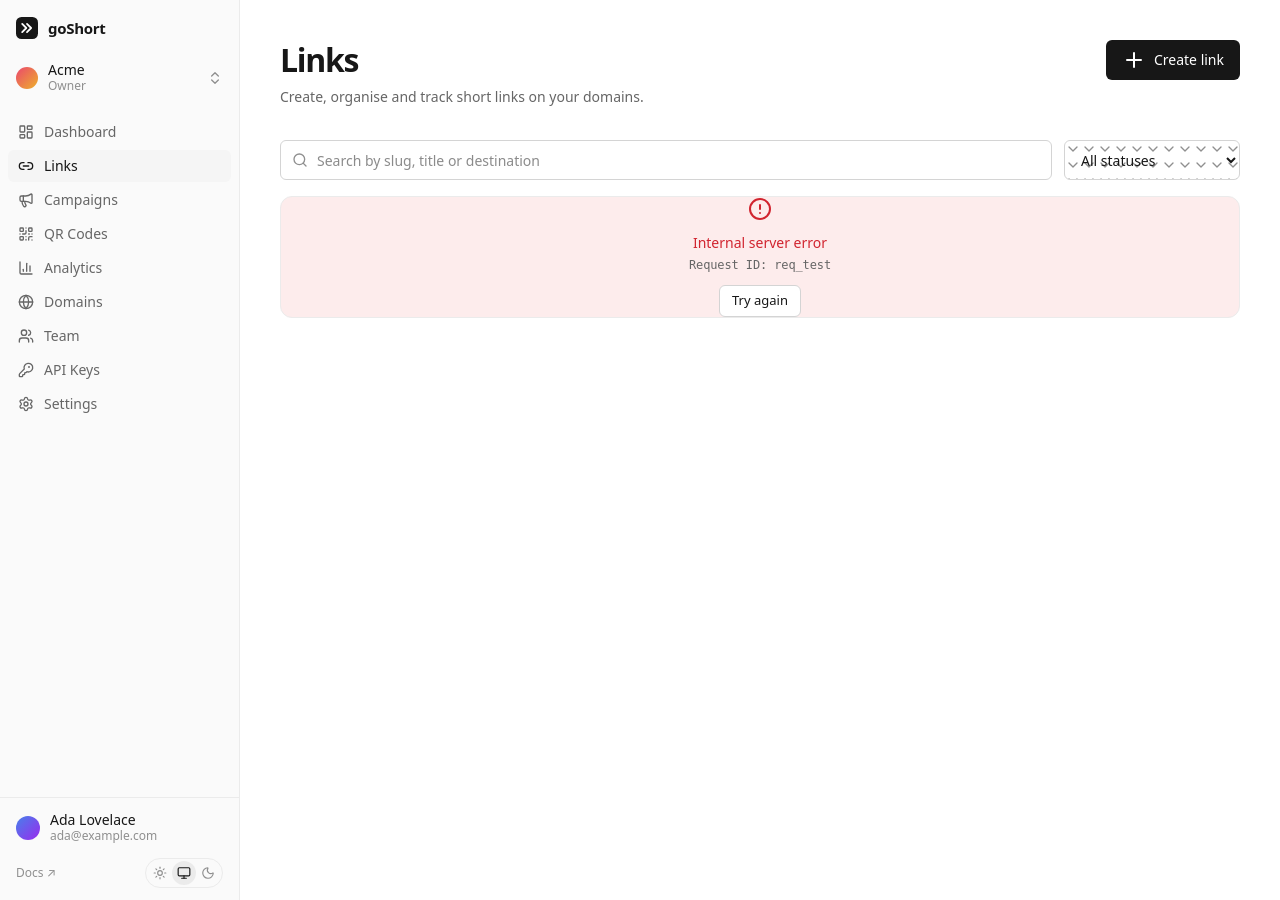
Test: links list › shows an error state with a working retry
Expected: the message shows "Internal server error", x1=693 y1=233 x2=827 y2=252
Expected: the text "Request ID: req_test" is shown, x1=689 y1=257 x2=831 y2=273
Click the button "Try again".
click(760, 301)  # box x1=719 y1=285 x2=801 y2=317
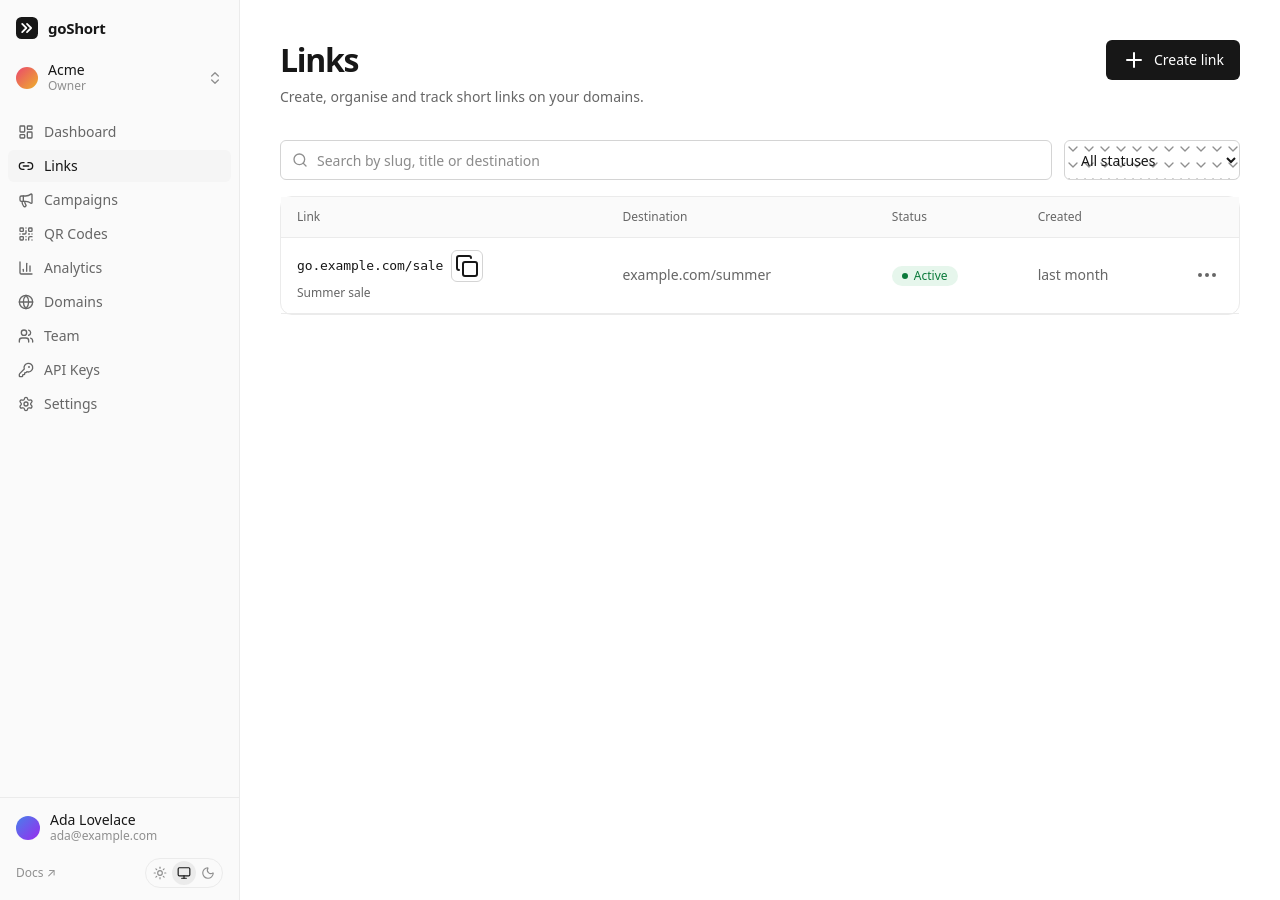
Now the text "go.example.com/sale" is shown, box x1=297 y1=256 x2=443 y2=276
